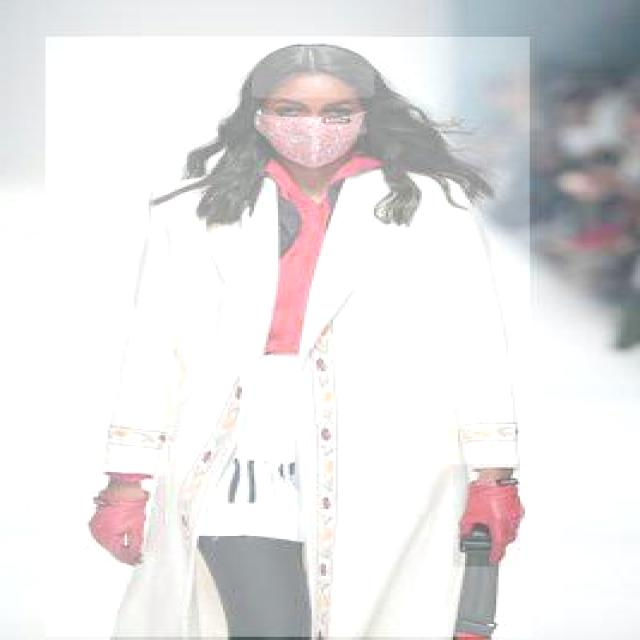face_mask: (254, 91, 372, 165)
hand_glove: (77, 471, 165, 566), (451, 464, 520, 568)
head_nohelmet: (249, 46, 374, 98)
person: (43, 37, 530, 638)
